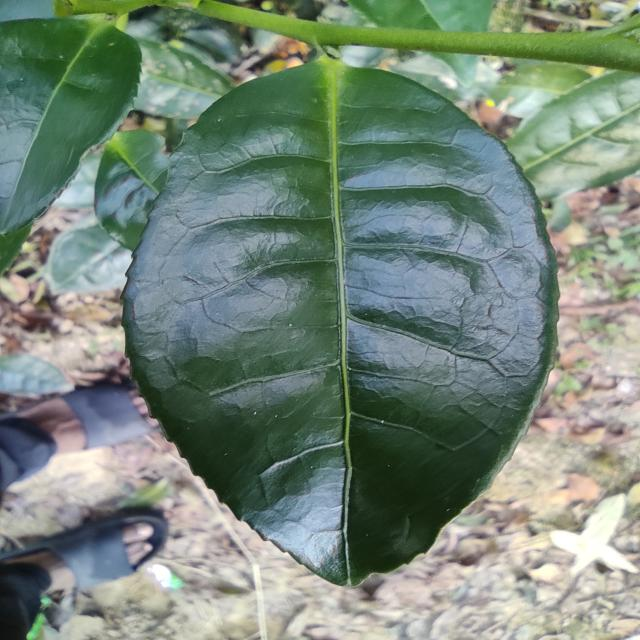Category D 7+ days, Not for Tea: (122, 48, 575, 601)
